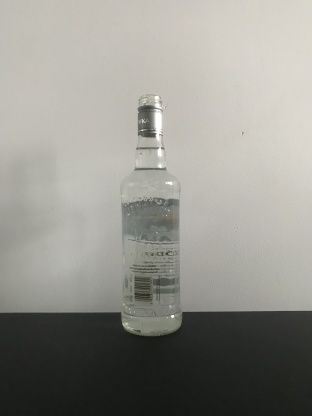nakretka: (135, 91, 165, 138)
